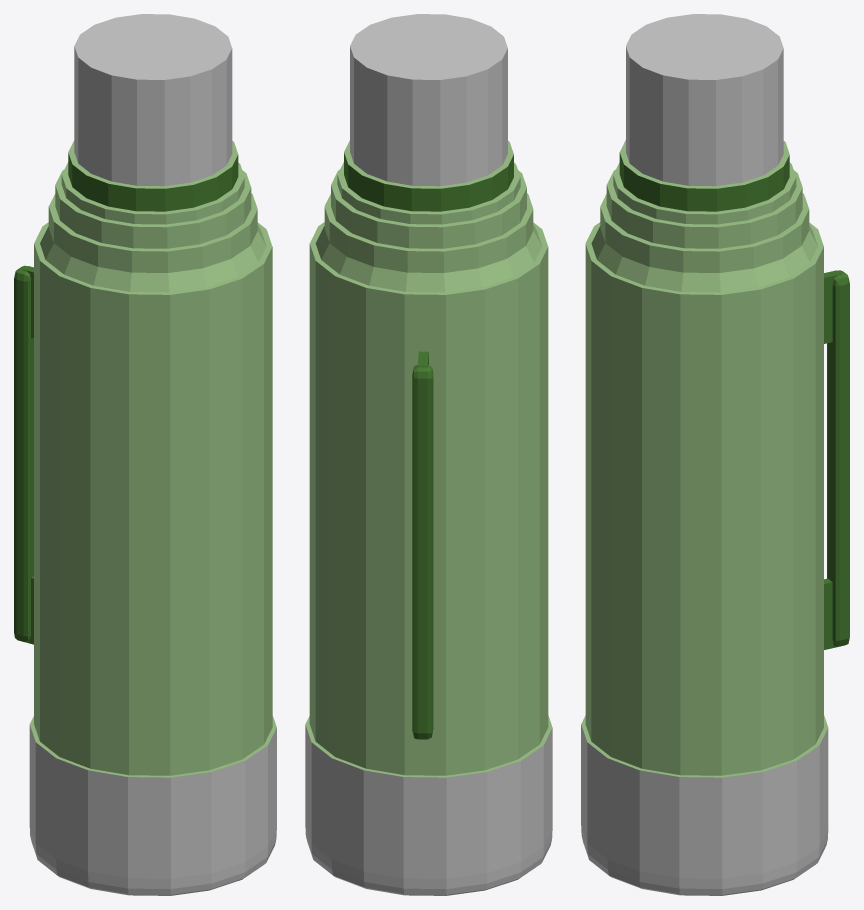
The picture shows the model from 3 angles, left to right: view 1: azimuth 30°, elevation 25°; view 2: azimuth 150°, elevation 25°; view 3: azimuth 270°, elevation 25°; orthographic projection.
Visible parts, largest first — view 1: Cylinder002, Box004; view 2: Cylinder002, Box004; view 3: Cylinder002, Box004, Box005, Box006.
Part boxes in pixels (x1=…): Cylinder002: x1=29, y1=14, x2=276, y2=895; Box004: x1=14, y1=265, x2=33, y2=642; Cylinder002: x1=305, y1=14, x2=552, y2=895; Box004: x1=412, y1=365, x2=433, y2=739; Cylinder002: x1=581, y1=14, x2=828, y2=895; Box004: x1=827, y1=270, x2=849, y2=646; Box005: x1=824, y1=270, x2=841, y2=343; Box006: x1=824, y1=578, x2=837, y2=649.
Bounding box in the file's own units: 102405 × 368785 × 112385.
